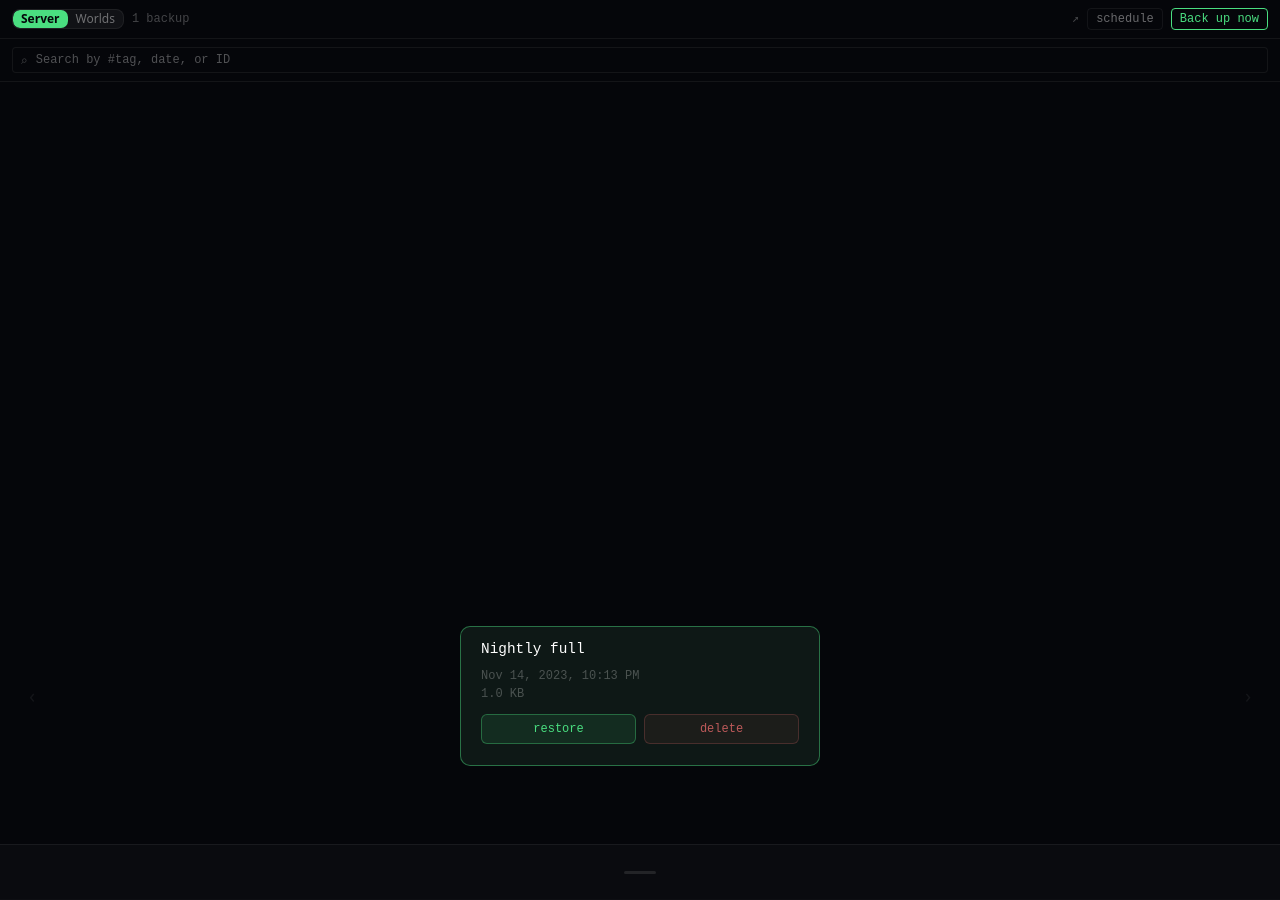
Test case: BackupsTile world view › names the world in the restore confirmation
The width and height of the screenshot is (1280, 900).
Click the button "Worlds": (95, 19) [68,10,123,28]
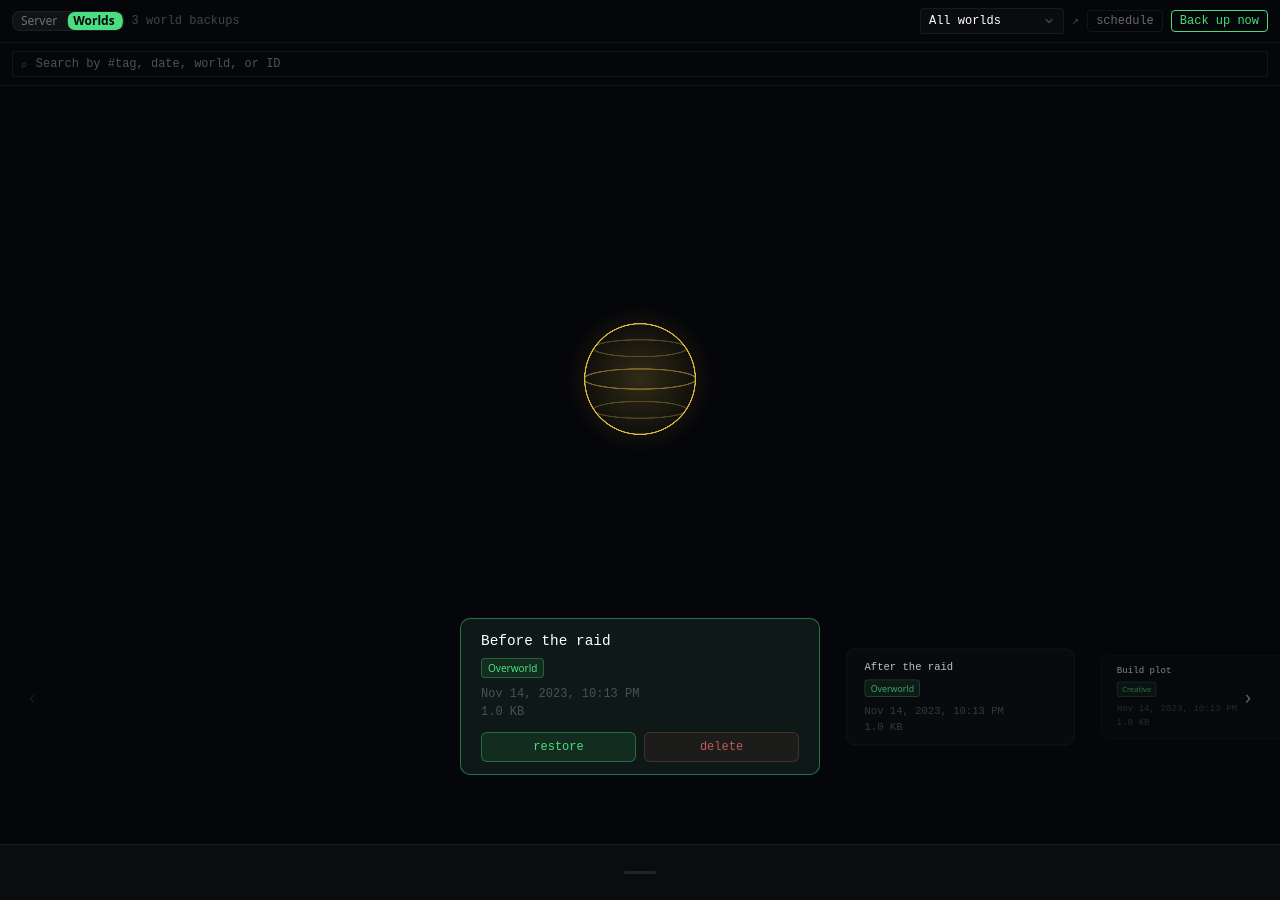
Click the button "restore": (558, 747) [481,732,636,762]
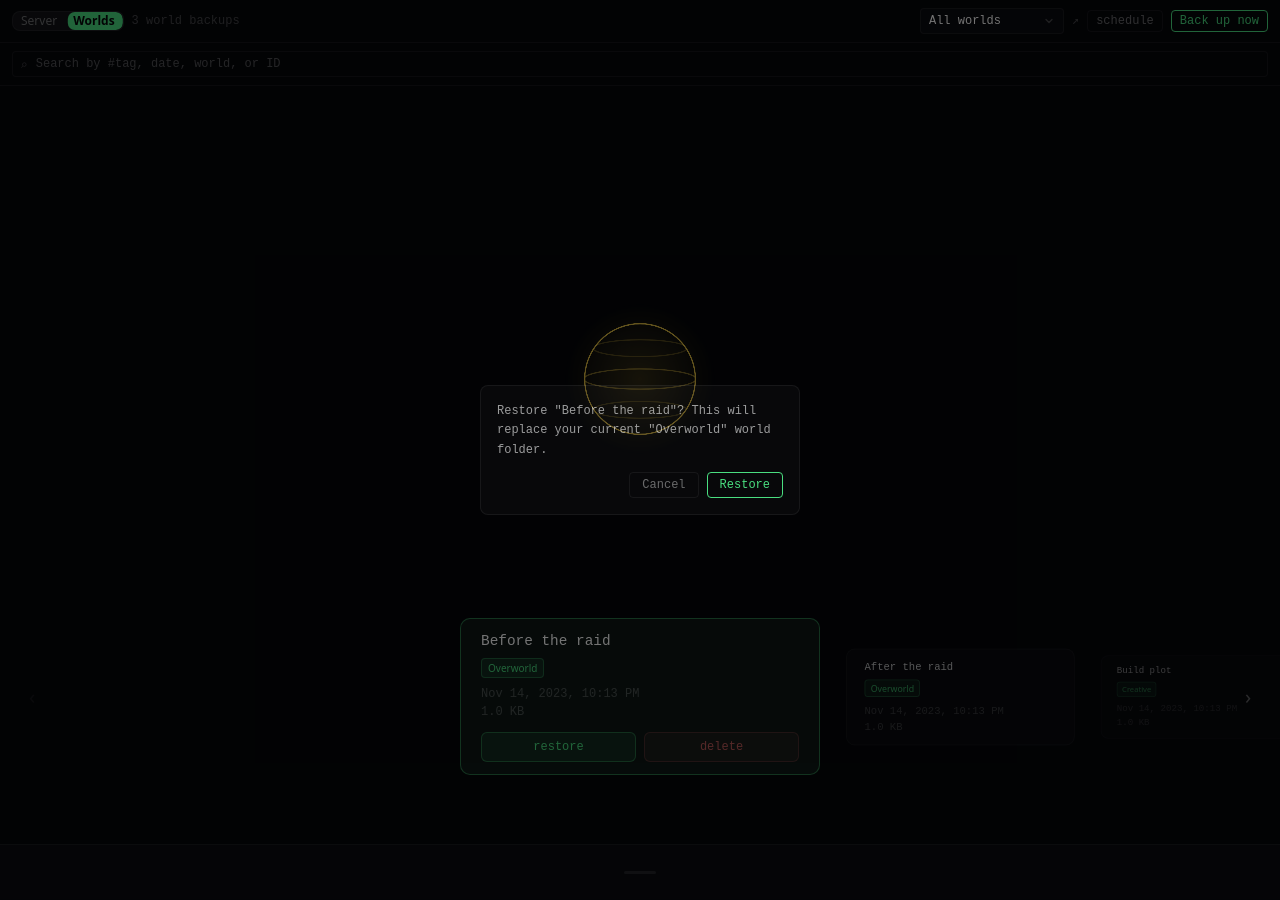
Check: the text "This will replace your current \"Overworld\" world folder." is shown, box [497,404,771,457]
